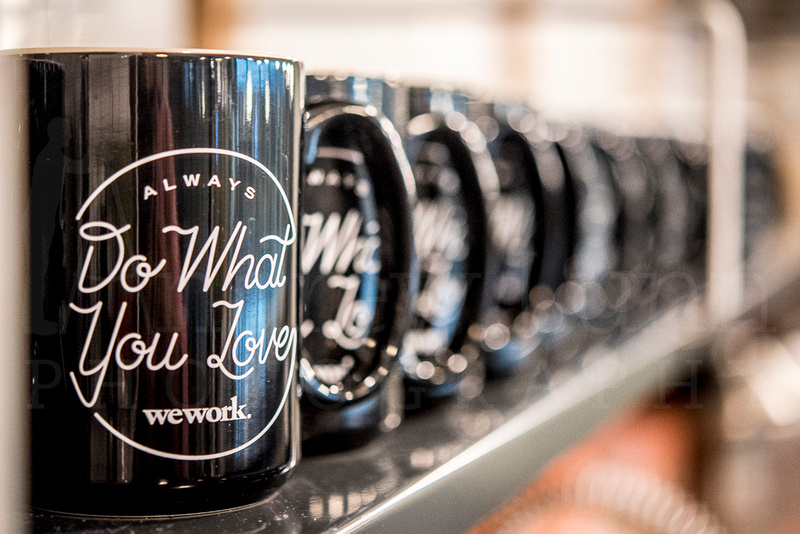wework: (141, 395, 247, 426)
